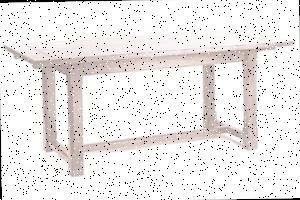Mesa: (3, 25, 299, 179)
